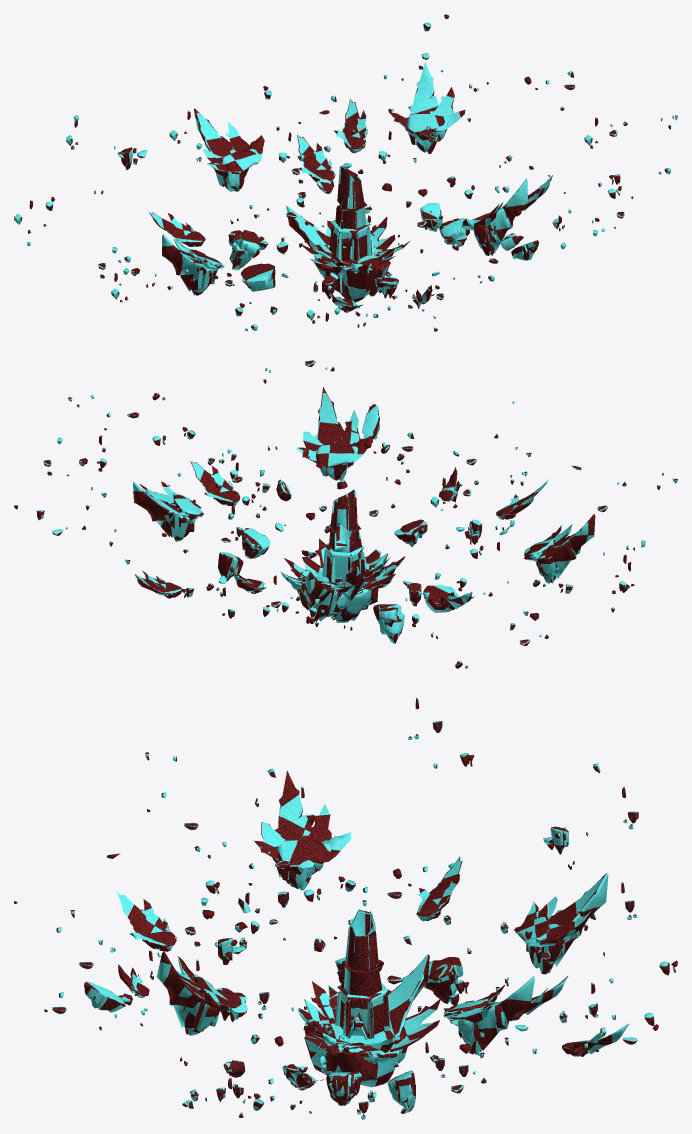
3 renders of one model, top to bottom at view 1: azimuth 30°, elevation 25°; view 2: azimuth 150°, elevation 25°; view 3: azimuth 270°, elevation 25°, orthographic. The views are drawn at different scales.
Parts seen in each view (by area): view 1: SM_Floating_Islandslow2_LOD0; view 2: SM_Floating_Islandslow2_LOD0; view 3: SM_Floating_Islandslow2_LOD0.
Part boxes in pixels (x1,y1,x2,y2): SM_Floating_Islandslow2_LOD0: [14, 14, 677, 331]; SM_Floating_Islandslow2_LOD0: [14, 360, 677, 668]; SM_Floating_Islandslow2_LOD0: [14, 697, 677, 1119].
Size of the model in its own units: 3197 by 846 by 2362.
1 material, 1 textured.
